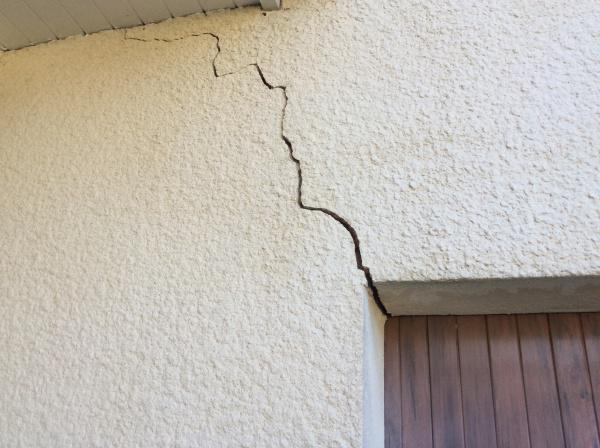crack: (123, 29, 392, 319)
